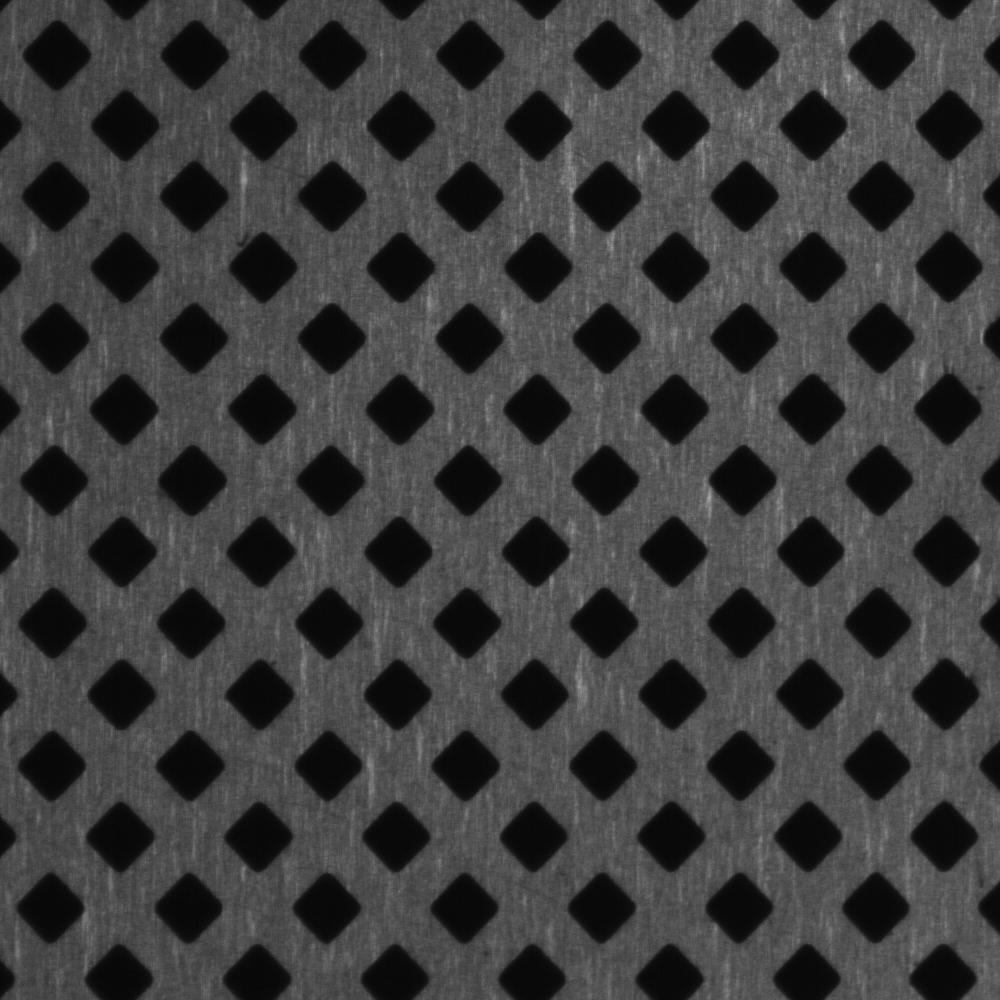Scar: (448, 116, 566, 192), (448, 845, 578, 913), (705, 121, 799, 176), (273, 789, 355, 831)
